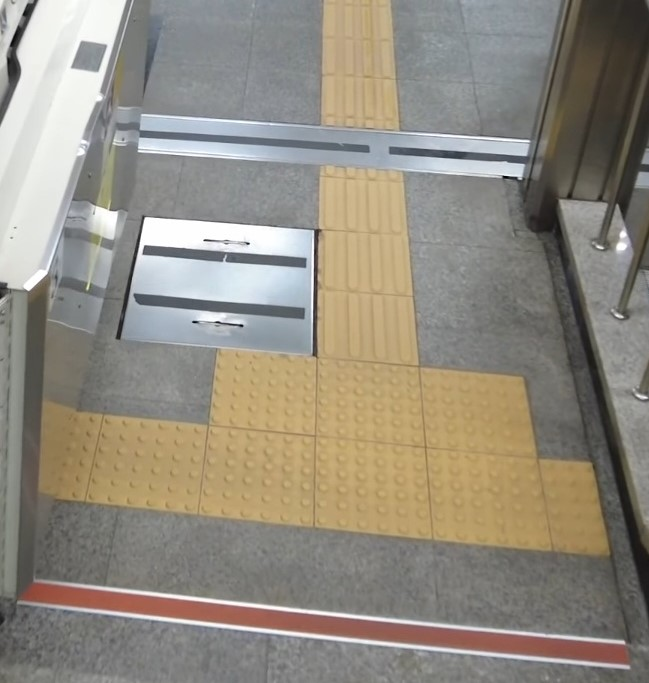guideBlock: (317, 291, 427, 358), (324, 33, 418, 92), (321, 233, 410, 288), (323, 190, 405, 235), (322, 77, 391, 125), (322, 5, 397, 49)
warningBlock: (432, 449, 556, 542), (200, 430, 318, 523), (310, 435, 421, 532), (322, 354, 427, 442), (424, 371, 543, 446), (217, 350, 313, 427), (100, 419, 188, 503), (537, 460, 613, 550)
